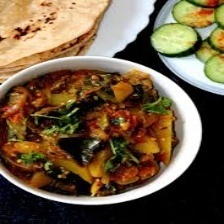sabzi: (0, 66, 182, 197)
